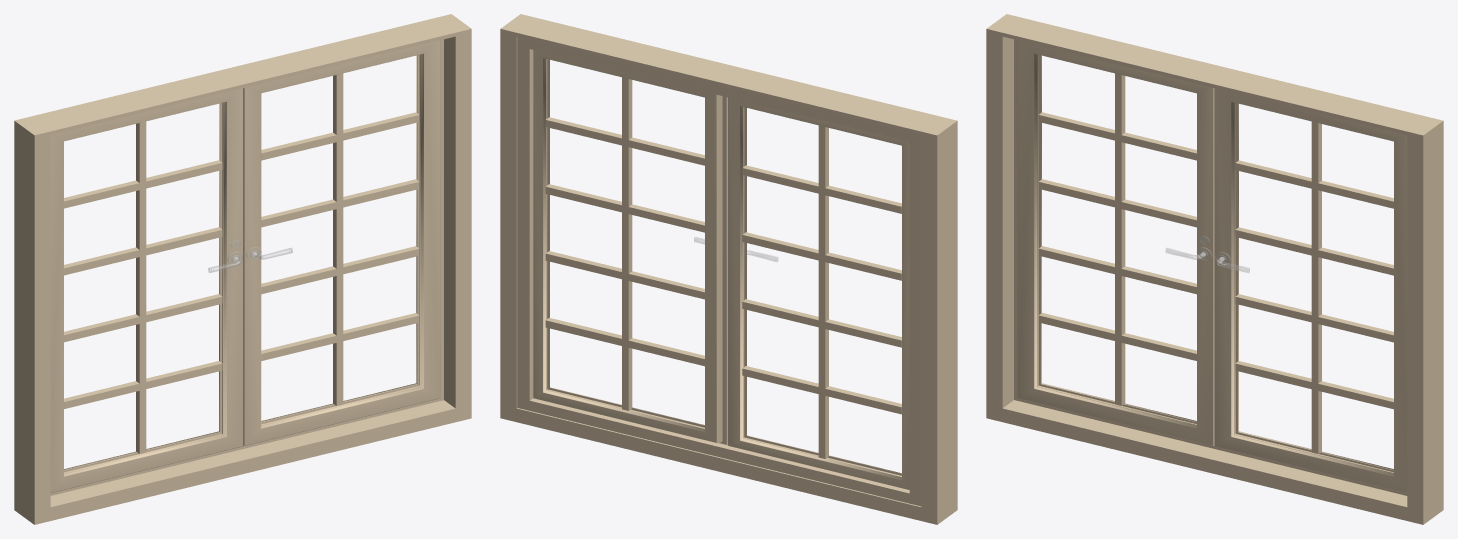
File: Ventana.glb
3 renders of one model, left to right at view 1: azimuth 30°, elevation 25°; view 2: azimuth 150°, elevation 25°; view 3: azimuth 330°, elevation 25°, orthographic.
Parts seen in each view (by area): view 1: 16696_20_Pane_Casement_Window-Pine_V1; view 2: 16696_20_Pane_Casement_Window-Pine_V1; view 3: 16696_20_Pane_Casement_Window-Pine_V1.
Part boxes in pixels (left/top/right/bottom): 16696_20_Pane_Casement_Window-Pine_V1: left=14, top=14, right=471, bottom=524; 16696_20_Pane_Casement_Window-Pine_V1: left=500, top=14, right=957, bottom=524; 16696_20_Pane_Casement_Window-Pine_V1: left=986, top=14, right=1443, bottom=524.
Size of the model in its own units: 7.31 by 6.22 by 0.5897.
